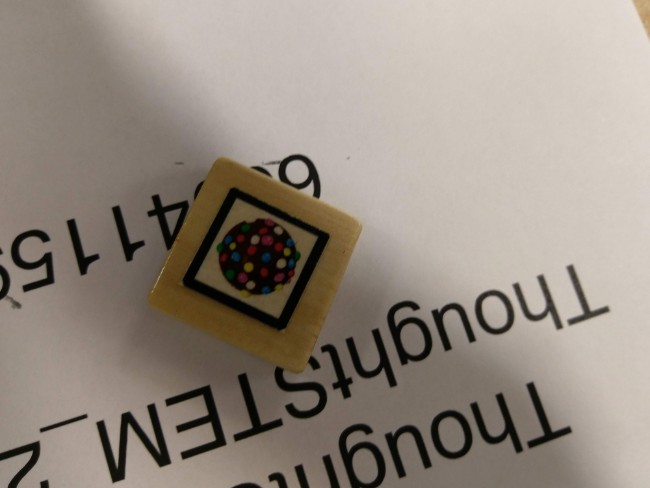cookie: (196, 198, 331, 326)
